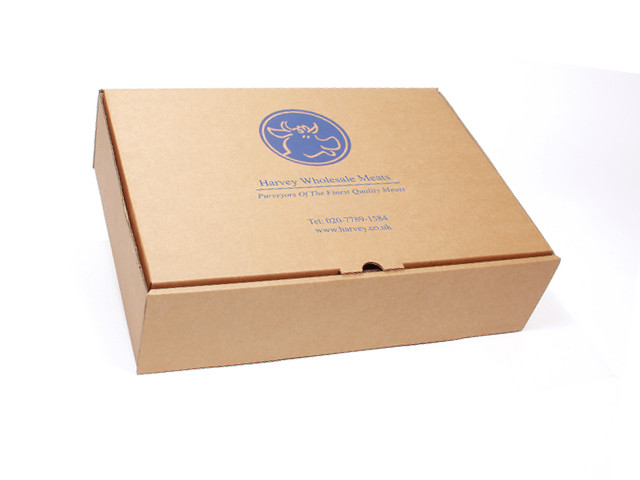cardboard: (93, 90, 562, 376)
